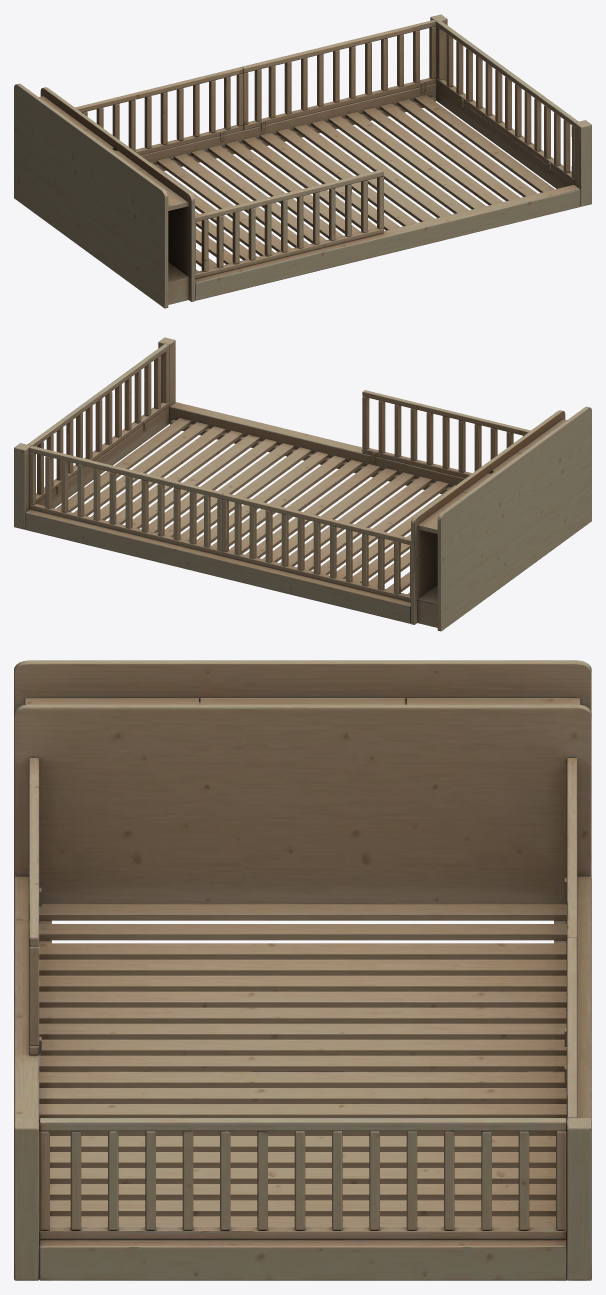
3 views of the same model, one above another, from view 1: azimuth 30°, elevation 25°; view 2: azimuth 150°, elevation 25°; view 3: azimuth 270°, elevation 25° (orthographic). The views are drawn at different scales.
Visible parts, largest first — view 1: 200x120; view 2: 200x120; view 3: 200x120.
Boxes of the visible parts, box(x1,y1,x2,y2) form: 200x120: box(14, 14, 591, 308); 200x120: box(14, 337, 591, 631); 200x120: box(14, 660, 591, 1280).
Size of the model in its own units: 2.24 by 0.58 by 1.37.
Materials: 1 (1 with a texture image).
